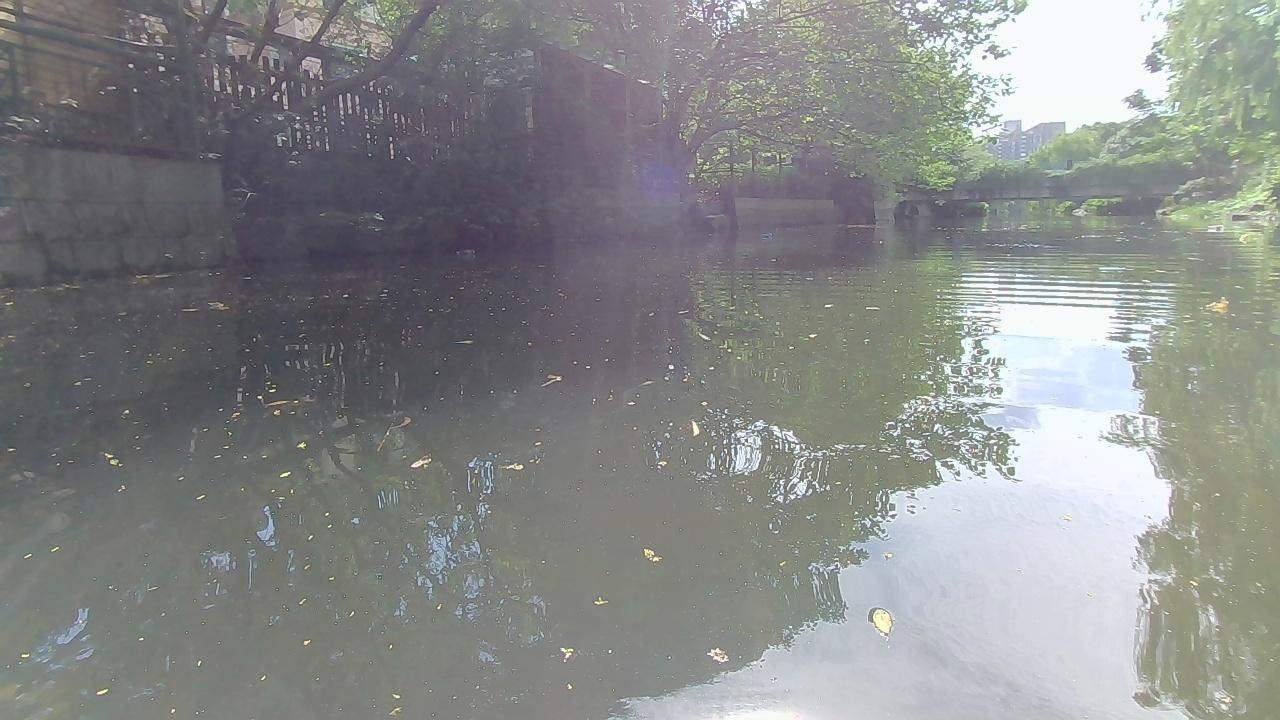bottle: (453, 247, 480, 257), (1205, 224, 1226, 233), (1239, 229, 1252, 242)
